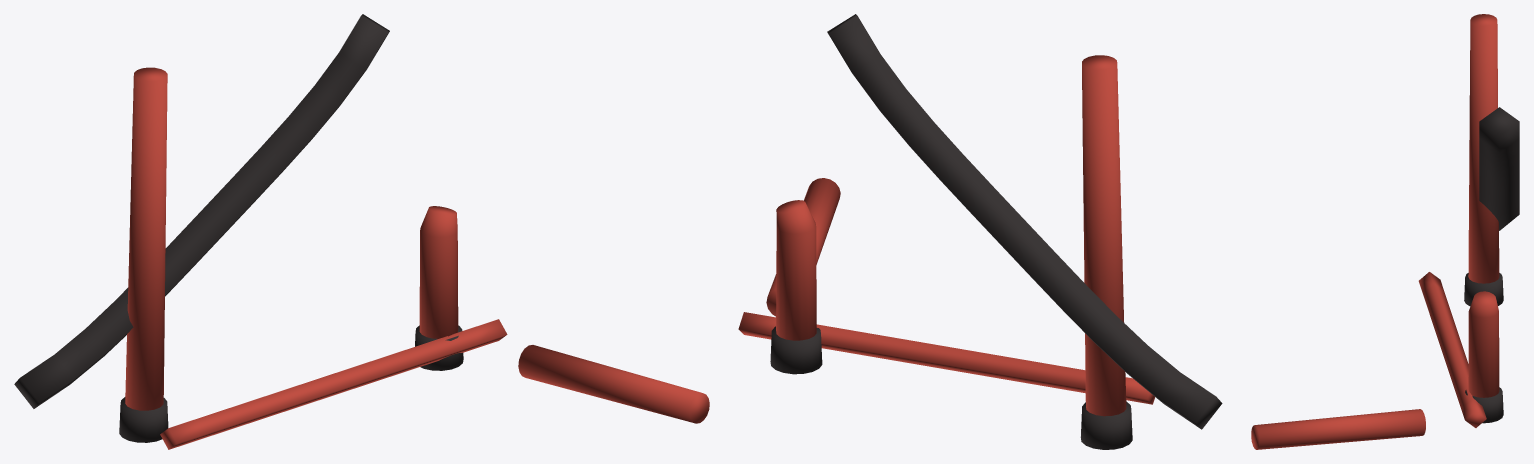
The model's file is torii_broken.glb.
3 views of the same model, side by side, from view 1: azimuth 30°, elevation 25°; view 2: azimuth 150°, elevation 25°; view 3: azimuth 270°, elevation 25° (orthographic). The views are drawn at different scales.
Visible parts, largest first — view 1: ToriiBroken; view 2: ToriiBroken; view 3: ToriiBroken.
Boxes of the visible parts, box(x1,y1,x2,y2) form: ToriiBroken: box(14, 14, 709, 449); ToriiBroken: box(738, 14, 1222, 449); ToriiBroken: box(1251, 14, 1519, 449).
Size of the model in its own units: 9.5 by 6.01 by 5.16.
